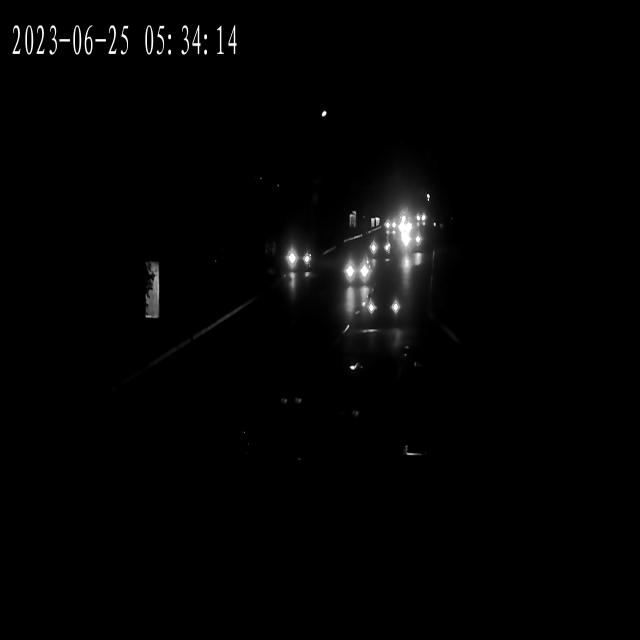Car: (368, 280, 406, 332), (340, 242, 369, 297), (286, 240, 315, 282), (365, 224, 393, 265), (401, 229, 425, 252), (391, 212, 410, 237), (414, 212, 425, 226)
